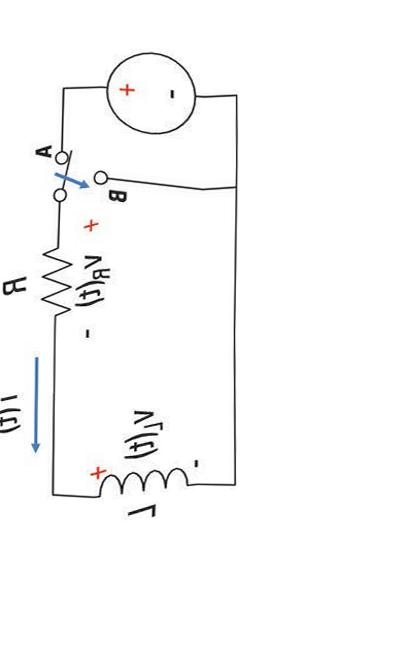Battery: (76, 39, 214, 159)
